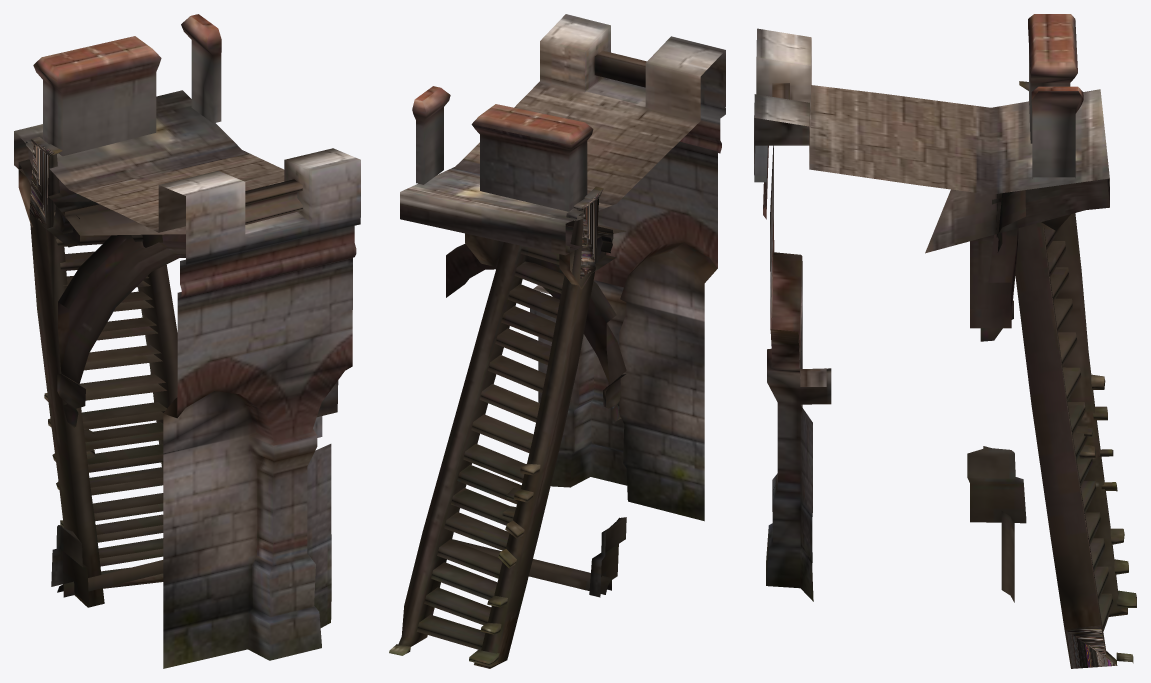
File: WallRunFront_01.fbx
3 renders of one model, left to right at view 1: azimuth 30°, elevation 25°; view 2: azimuth 150°, elevation 25°; view 3: azimuth 270°, elevation 25°, orthographic. The views are drawn at different scales.
Visible parts, largest first — view 1: Imported wall section.001; view 2: Imported wall section.001; view 3: Imported wall section.001.
Boxes of the visible parts, left/top/right/bottom form: Imported wall section.001: left=14, top=14, right=360, bottom=668; Imported wall section.001: left=389, top=14, right=725, bottom=668; Imported wall section.001: left=754, top=14, right=1136, bottom=668.
Bounding box in the file's own units: 200 × 638 × 383.
1 material, 1 textured.
